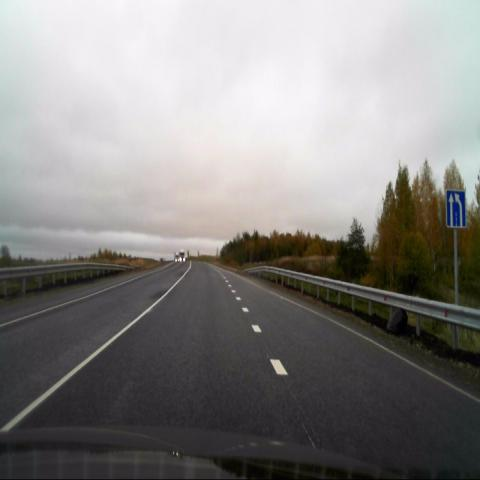5_15_5: (446, 190, 466, 229)
